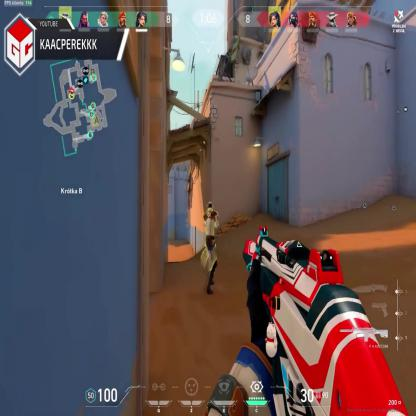enemy: (201, 199, 218, 295)
enemy_head: (206, 202, 215, 211)
